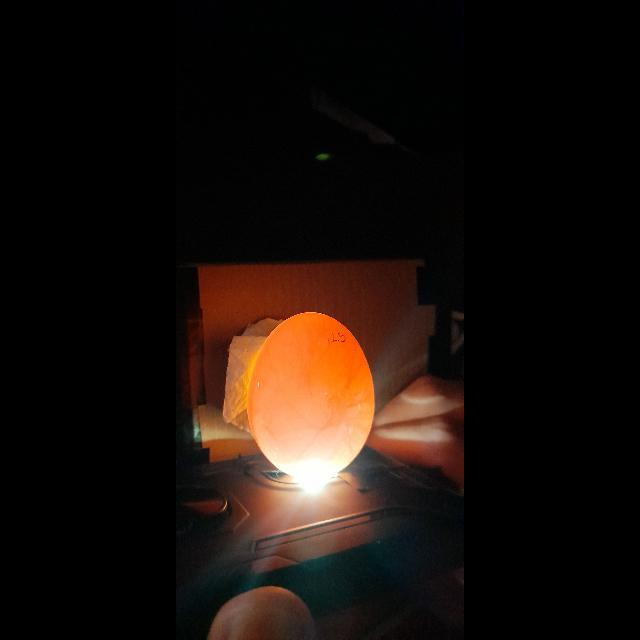Fertile: (244, 310, 380, 478)
